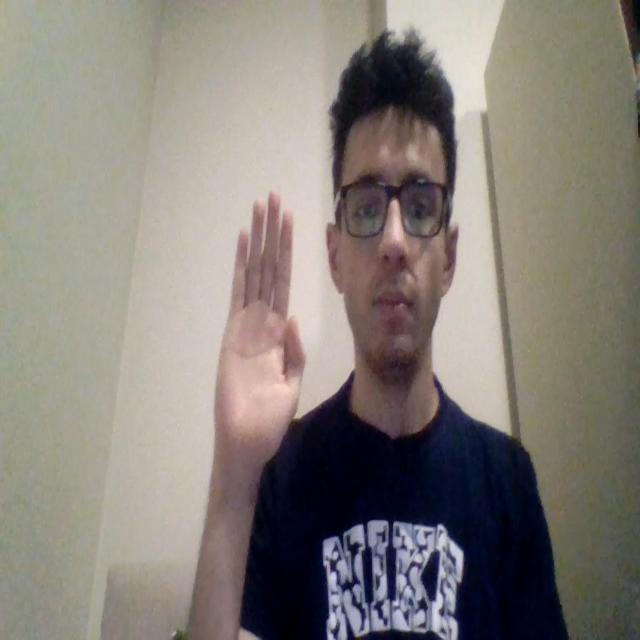hello: (210, 190, 306, 492)
